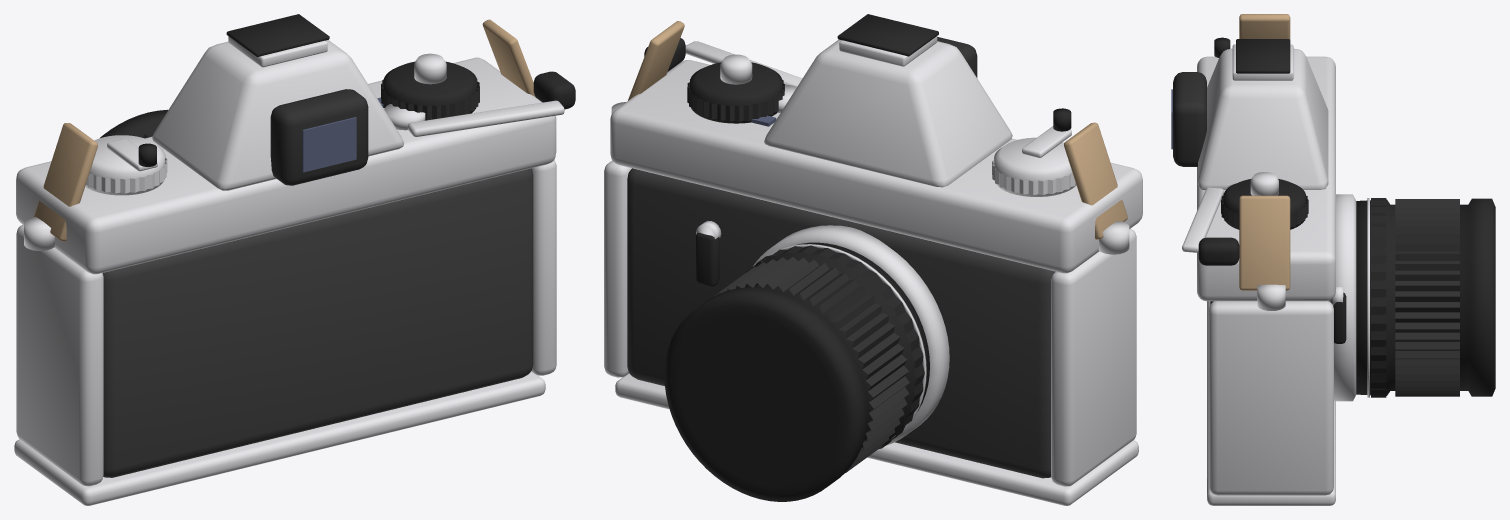
The model's file is camera_slr.glb.
3 renders of one model, left to right at view 1: azimuth 30°, elevation 25°; view 2: azimuth 150°, elevation 25°; view 3: azimuth 270°, elevation 25°, orthographic. The views are drawn at different scales.
Parts seen in each view (by area): view 1: camera_slr; view 2: camera_slr; view 3: camera_slr.
Part boxes in pixels (x1,y1,x2,y2): camera_slr: (14,14,575,505); camera_slr: (604,14,1142,505); camera_slr: (1171,14,1495,505).
Bounding box in the file's own units: 0.1564 × 0.1141 × 0.0955.
